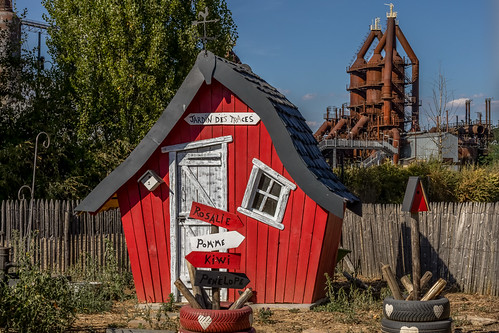medium: (72, 45, 367, 311)
